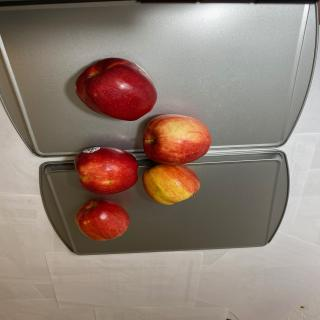Apple: (75, 57, 157, 121), (142, 114, 212, 165), (74, 146, 138, 194), (142, 164, 200, 205), (75, 198, 130, 241)
